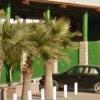Palm tree: (6, 14, 68, 94)
